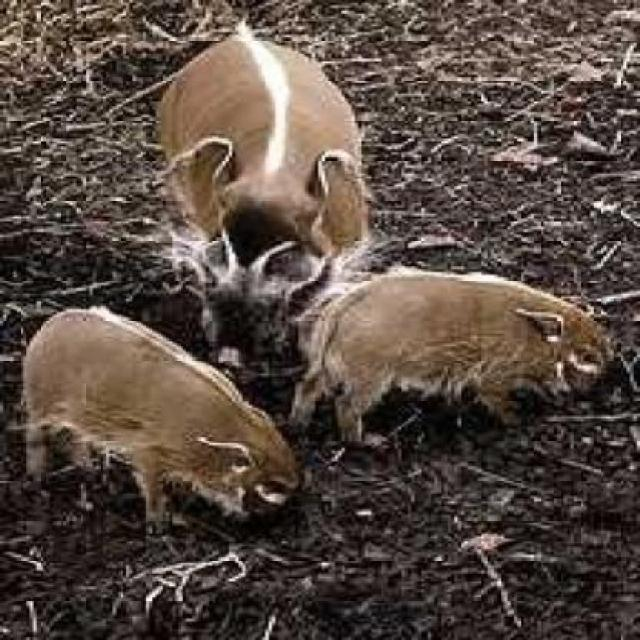Boar: (0, 257, 283, 580), (283, 278, 629, 470), (177, 12, 351, 298)
